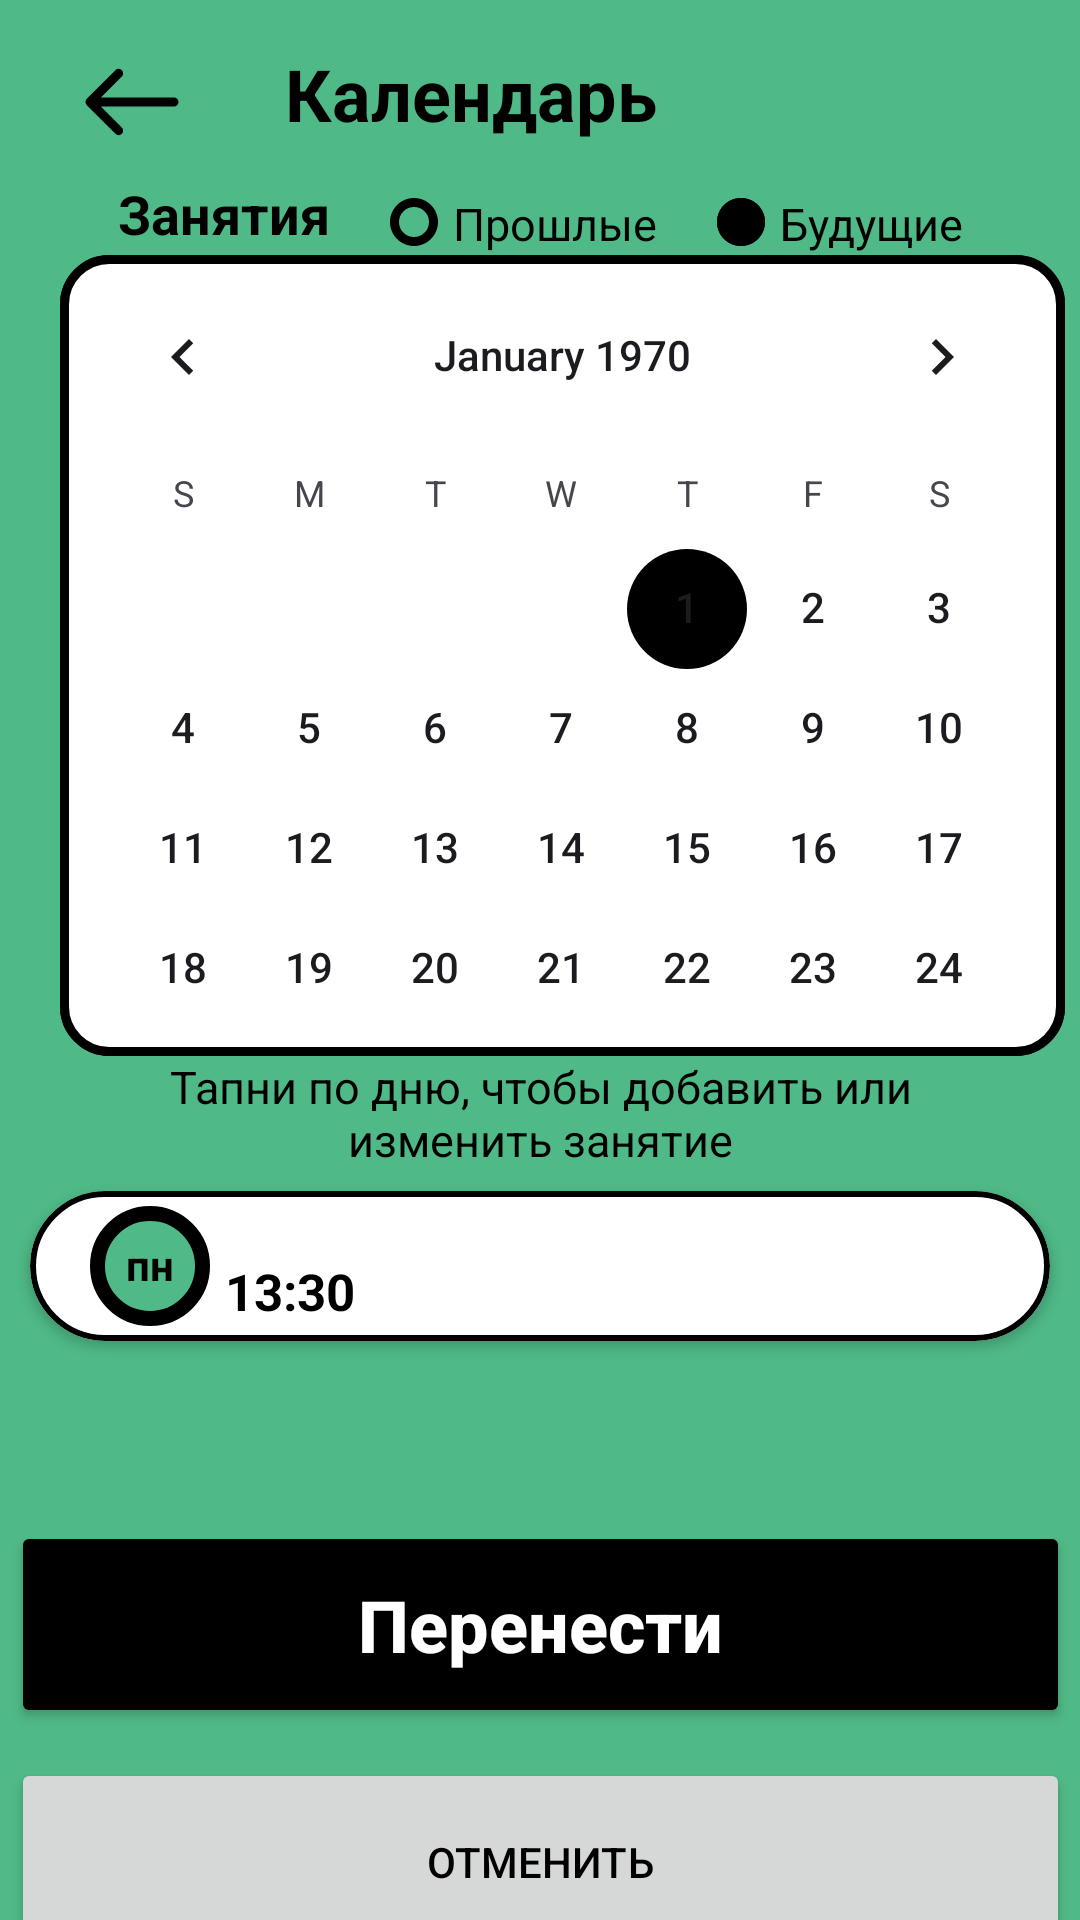

Named icons in this screenshot (1080x1920) and their centers, [x,y]:
arrow: [132,102]
